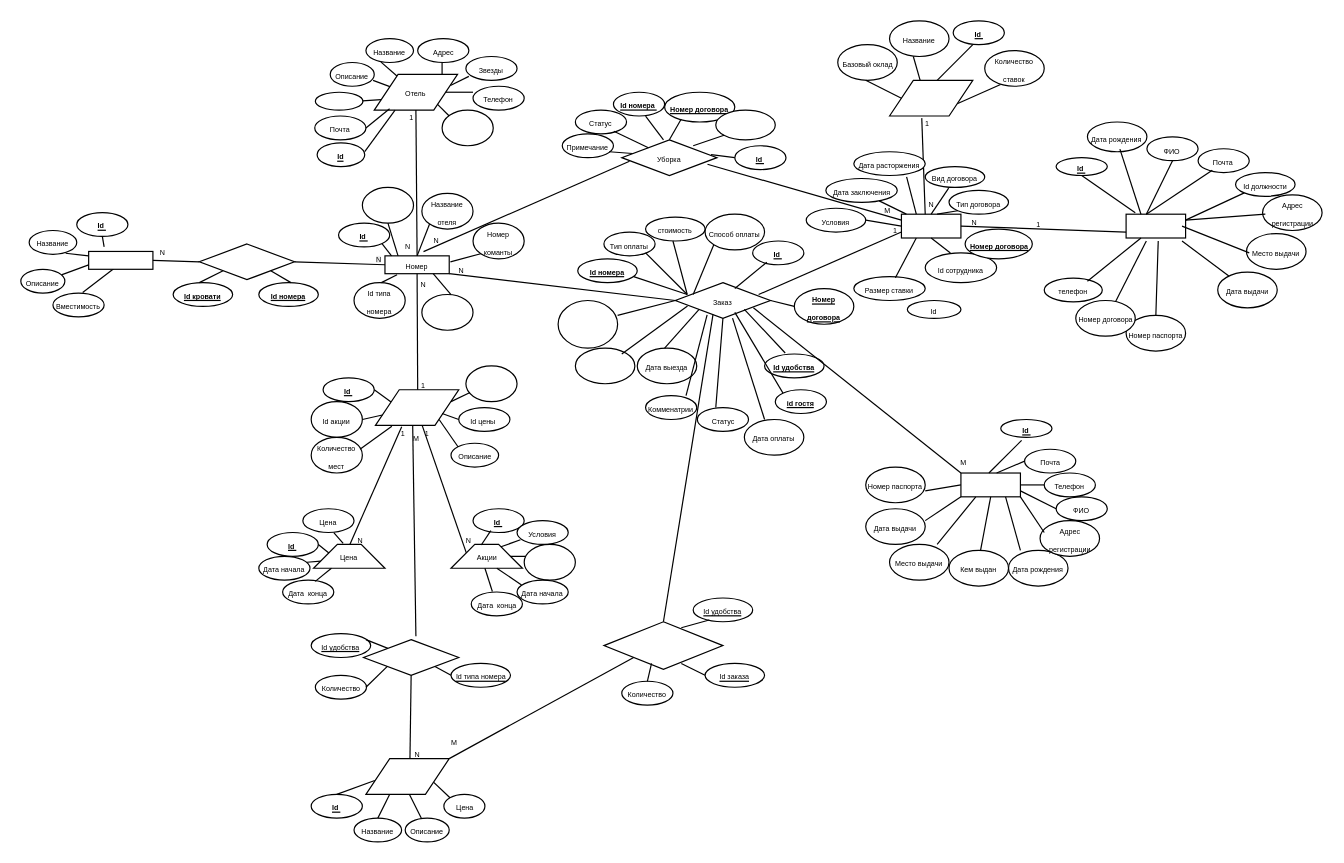
Some shapes in this 1344 by 863 pixel diagram are drawn without their labels. Each missing label, with the box of its shape:
Город: (314, 91, 363, 110)
Гость: (960, 472, 1020, 497)
Дата бронирования: (557, 299, 618, 348)
Дата заезда: (574, 347, 635, 384)
Дата уборки: (715, 109, 775, 140)
Договор: (900, 213, 961, 238)
Должность сотрудника: (888, 79, 973, 116)
Количесвто номеров: (441, 109, 493, 146)
Кровать: (87, 250, 153, 269)
Название типа: (465, 365, 517, 402)
Оснащение базовое: (362, 638, 459, 675)
Оснащение дополнительное: (603, 621, 723, 669)
Процент скидки: (523, 543, 575, 580)
Состав кроватей: (198, 243, 295, 280)
Сотрудник: (1125, 213, 1186, 238)
Статус занятости: (361, 186, 414, 223)
Статус уборки: (421, 293, 473, 330)
Тип номера: (374, 389, 459, 425)
Удобства: (365, 757, 449, 794)
